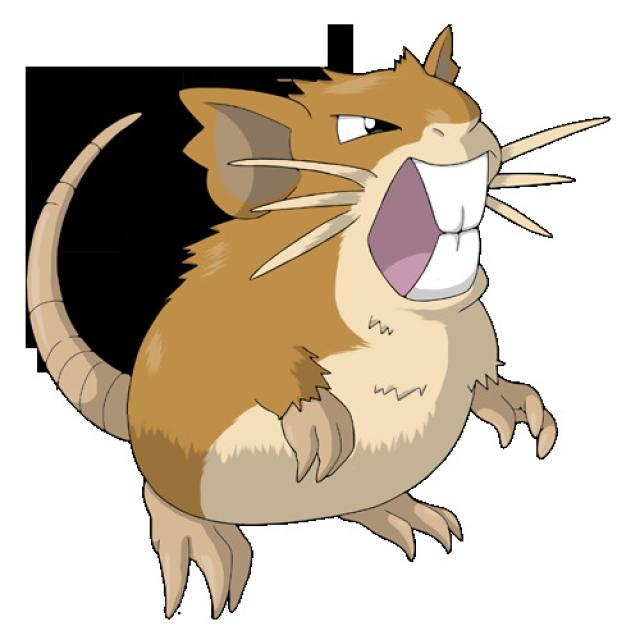Raticate: (74, 58, 560, 592)
